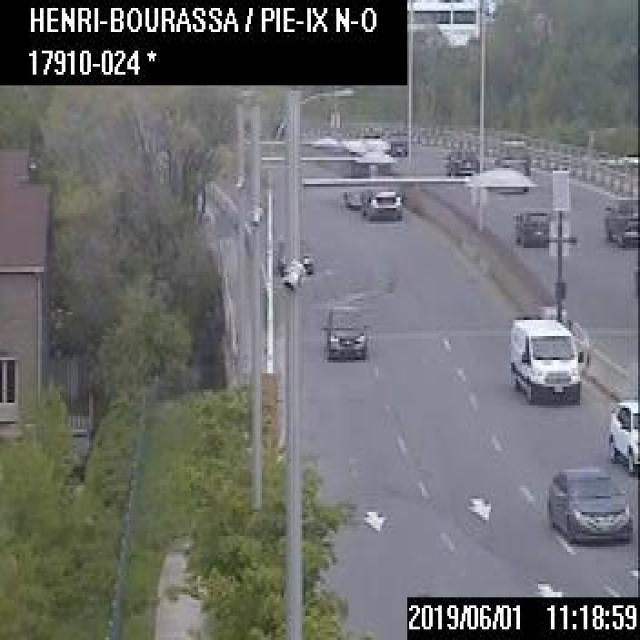bus: (342, 134, 391, 208)
vehicle: (547, 464, 629, 544), (507, 317, 580, 403), (320, 304, 365, 360), (607, 397, 638, 472), (600, 192, 638, 245), (513, 208, 549, 245), (489, 157, 528, 190), (360, 189, 402, 219), (271, 245, 311, 272), (443, 148, 478, 173), (493, 138, 528, 157), (389, 138, 405, 154), (338, 184, 340, 187)
